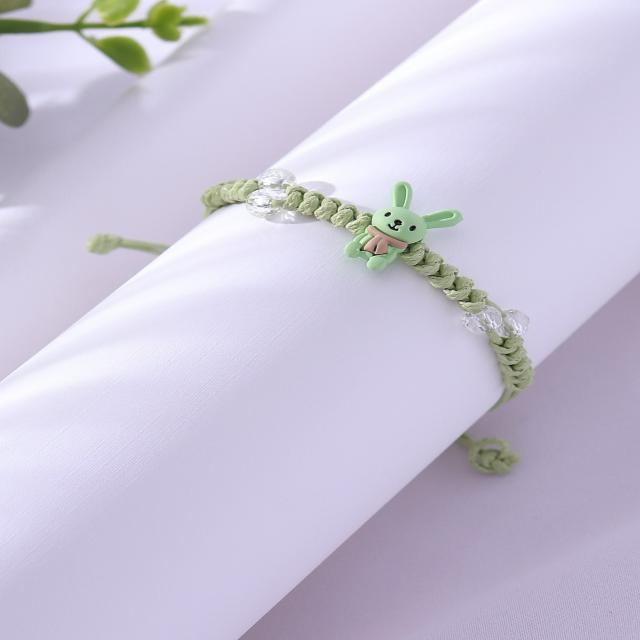bracelet: (72, 135, 611, 541)
